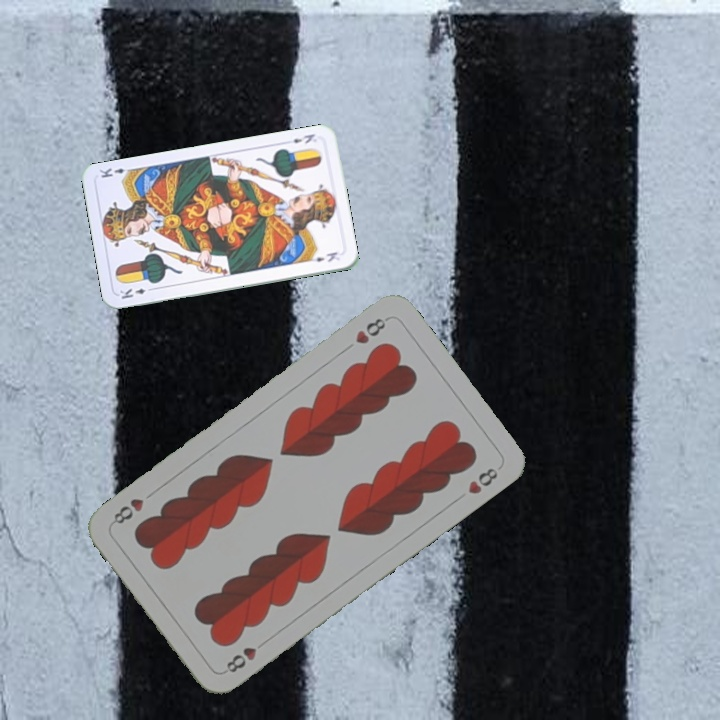EK: (116, 283, 157, 302), (281, 130, 317, 146)
H8: (222, 635, 270, 676), (351, 313, 391, 347)
